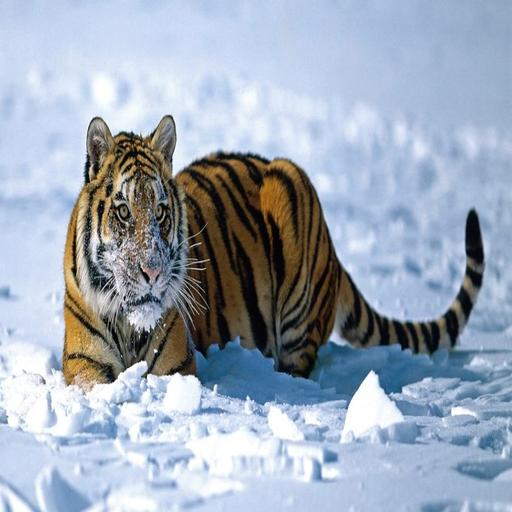Tiger: (47, 110, 493, 430)
